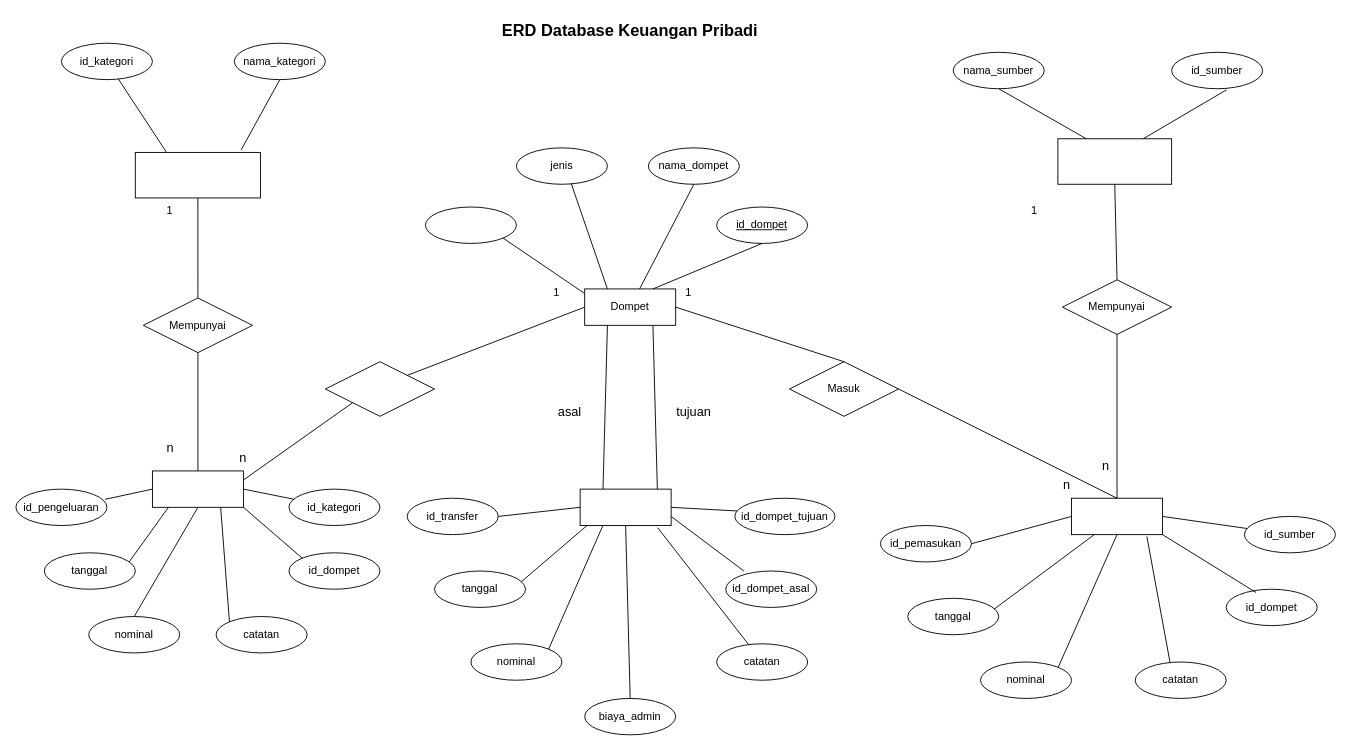
This 1351x751 diagram has some shape labels left out. Each missing label, with the box of its shape:
Kategori_Pengeluaran: (134, 152, 260, 198)
Keluae dari: (324, 361, 435, 416)
Pemasukan: (1071, 497, 1163, 535)
Pengeluaran: (152, 470, 243, 507)
saldo_awal: (425, 206, 516, 243)
Sumber_Pemasukan: (1057, 138, 1172, 184)
Transfer: (579, 488, 671, 526)
